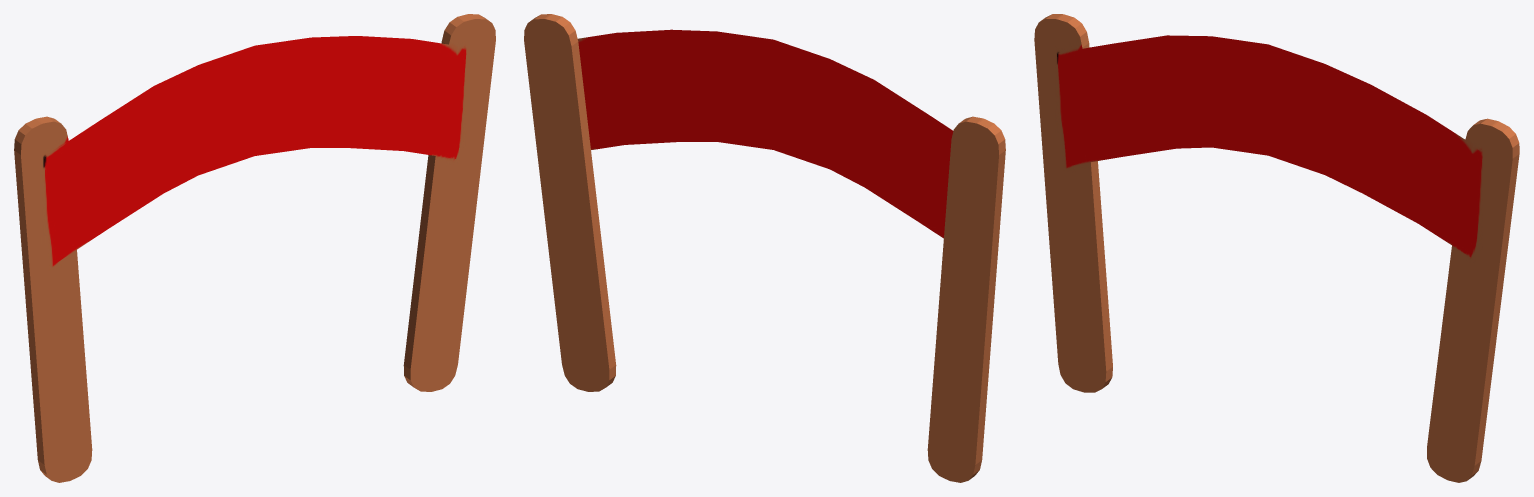
File: lolly pop stick banner.FBX
The picture shows the model from 3 angles, left to right: view 1: azimuth 30°, elevation 25°; view 2: azimuth 150°, elevation 25°; view 3: azimuth 330°, elevation 25°; orthographic projection.
Parts seen in each view (by area): view 1: Plane001; view 2: Plane001; view 3: Plane001.
Boxes of the visible parts, box(x1,y1,x2,y2) form: Plane001: box(14, 14, 495, 482); Plane001: box(524, 14, 1005, 482); Plane001: box(1034, 14, 1519, 482).
Size of the model in its own units: 196 by 154 by 5.38.
